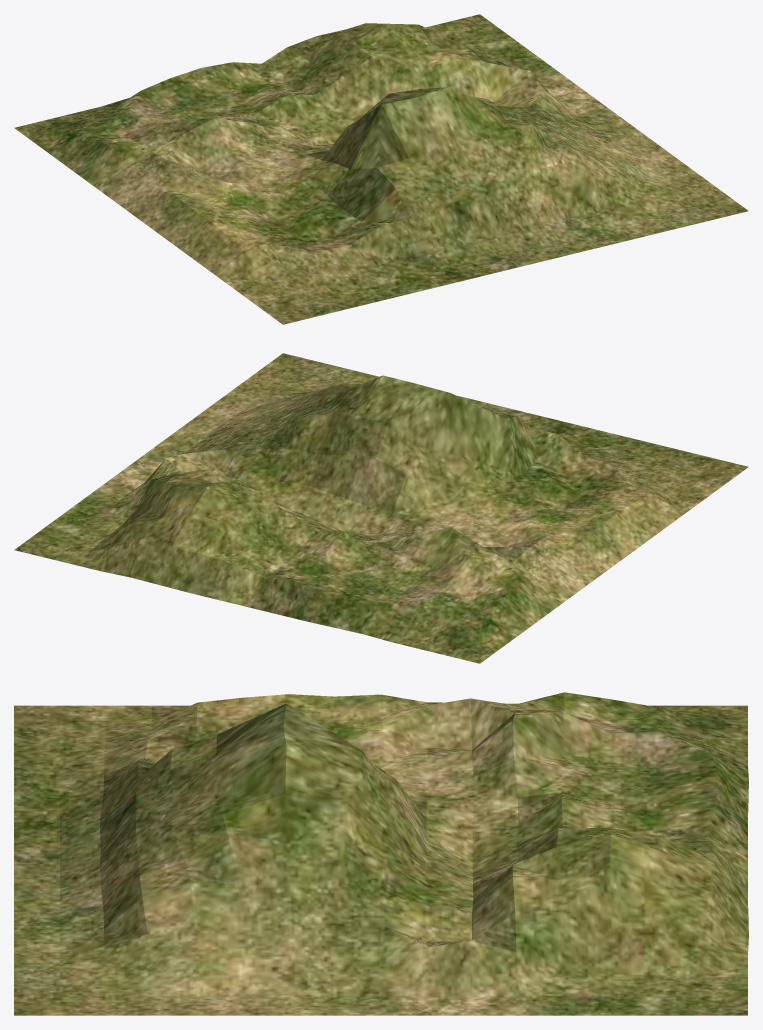
The model's file is terrain.glb.
3 renders of one model, top to bottom at view 1: azimuth 30°, elevation 25°; view 2: azimuth 150°, elevation 25°; view 3: azimuth 270°, elevation 25°, orthographic. The views are drawn at different scales.
Parts seen in each view (by area): view 1: Plane; view 2: Plane; view 3: Plane.
Boxes of the visible parts, <box> form: Plane: <box>14,14,748,324</box>; Plane: <box>14,353,748,663</box>; Plane: <box>14,692,748,1015</box>.
Bounding box in the file's own units: 20 × 4.09 × 20.03.
Materials: 1 (1 with a texture image).
